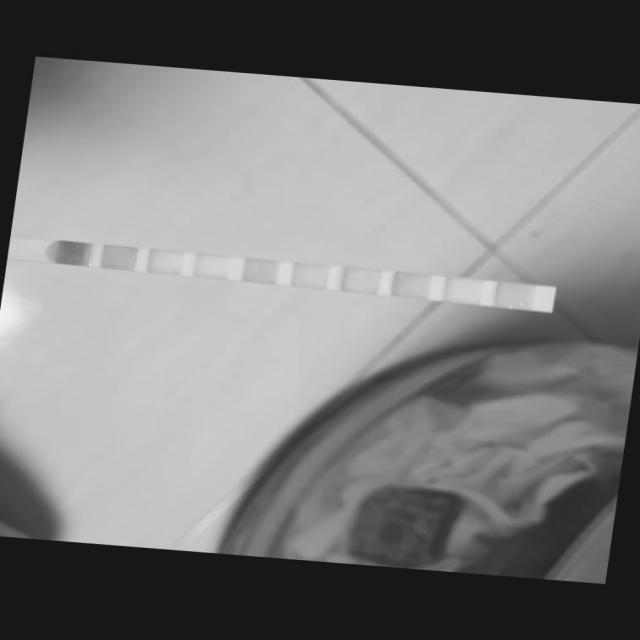Bilirubin: (103, 248, 133, 268)
Blood: (248, 262, 275, 282)
Glucose: (61, 244, 86, 264)
Ketone: (153, 252, 180, 270)
Leukocytes: (500, 286, 533, 308)
Nitrite: (450, 280, 480, 302)
Protein: (345, 271, 378, 291)
SpGravity: (198, 258, 226, 276)
Urobilinogen: (399, 276, 428, 296)
background: (0, 0, 640, 640)
pH: (294, 266, 326, 286)
strip: (8, 237, 558, 314)
